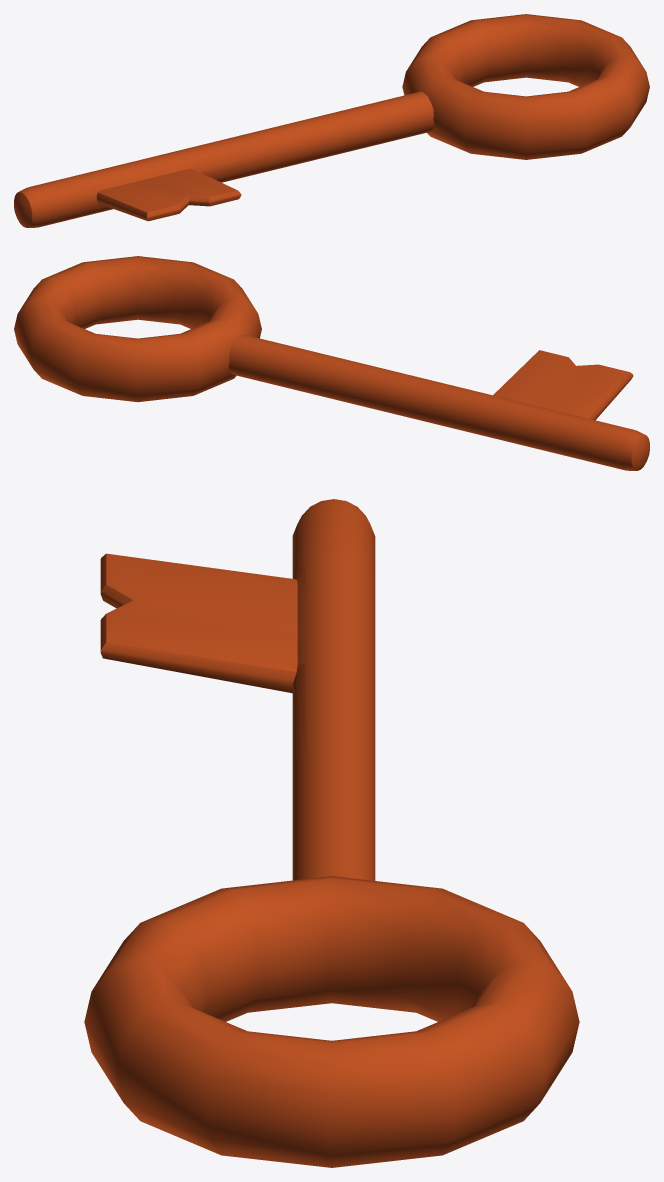
File: Llave.fbx
3 renders of one model, top to bottom at view 1: azimuth 30°, elevation 25°; view 2: azimuth 150°, elevation 25°; view 3: azimuth 270°, elevation 25°, orthographic. The views are drawn at different scales.
Parts seen in each view (by area): view 1: Llave; view 2: Llave; view 3: Llave.
Part boxes in pixels (box(x1,y1,x2,y2)): Llave: box(14, 14, 649, 227); Llave: box(14, 256, 649, 470); Llave: box(84, 499, 579, 1167).
Size of the model in its own units: 44.68 by 4.22 by 15.62.
